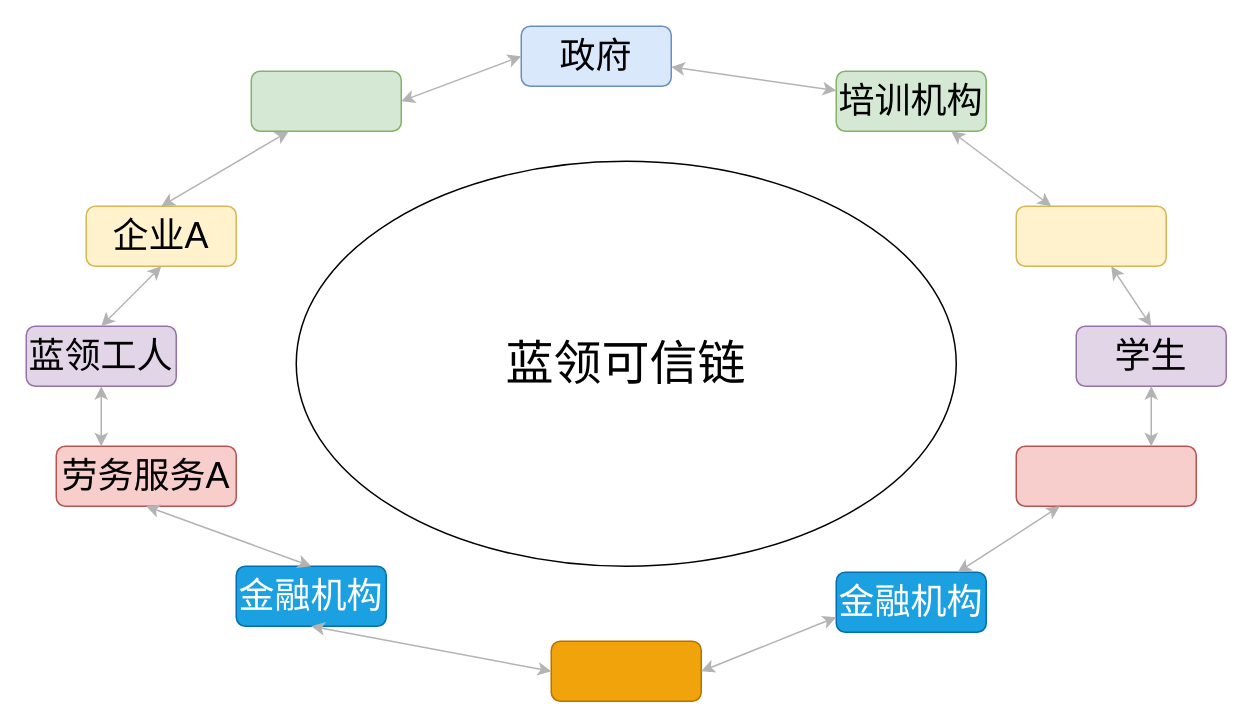
This 1253x728 diagram has some shape labels left out. The box of each missing label's shape, as (x1, y1, x2, y2) in pixels:
企业B: (1015, 205, 1166, 266)
劳务服务B: (1015, 445, 1196, 506)
学校: (250, 70, 401, 131)
平台: (550, 640, 701, 701)
